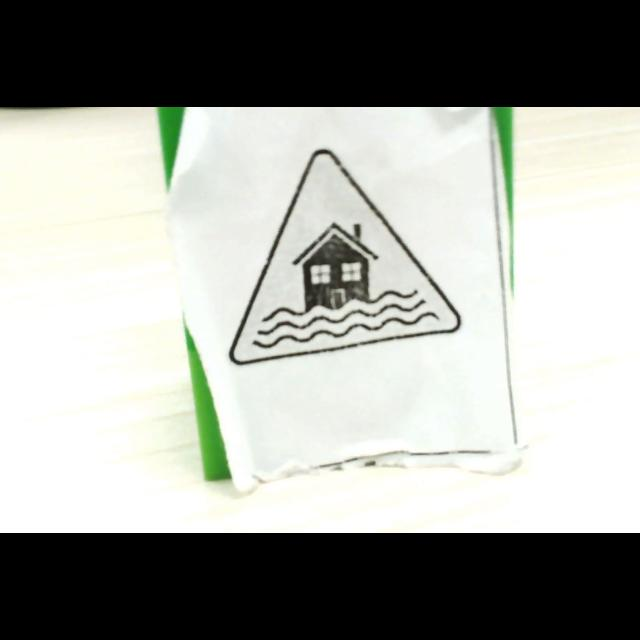Tsunami: (229, 149, 460, 365)
